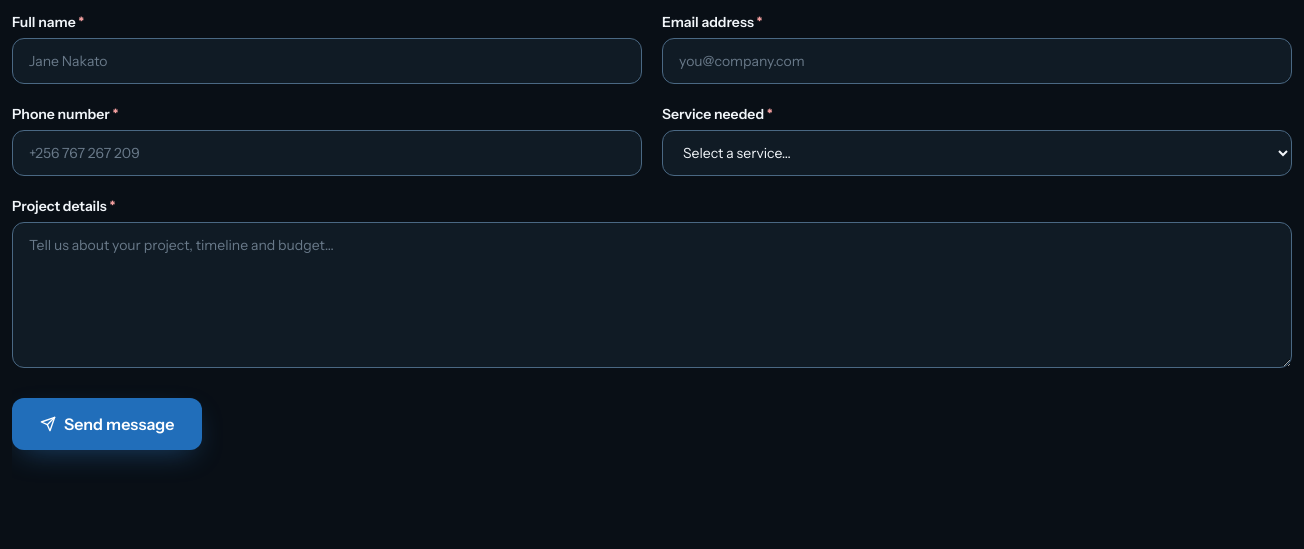
Test: ContactForm validation › blocks submission and reports every missing field
Click the button "Send message" at (107,424), box left=12, top=398, right=202, bottom=450
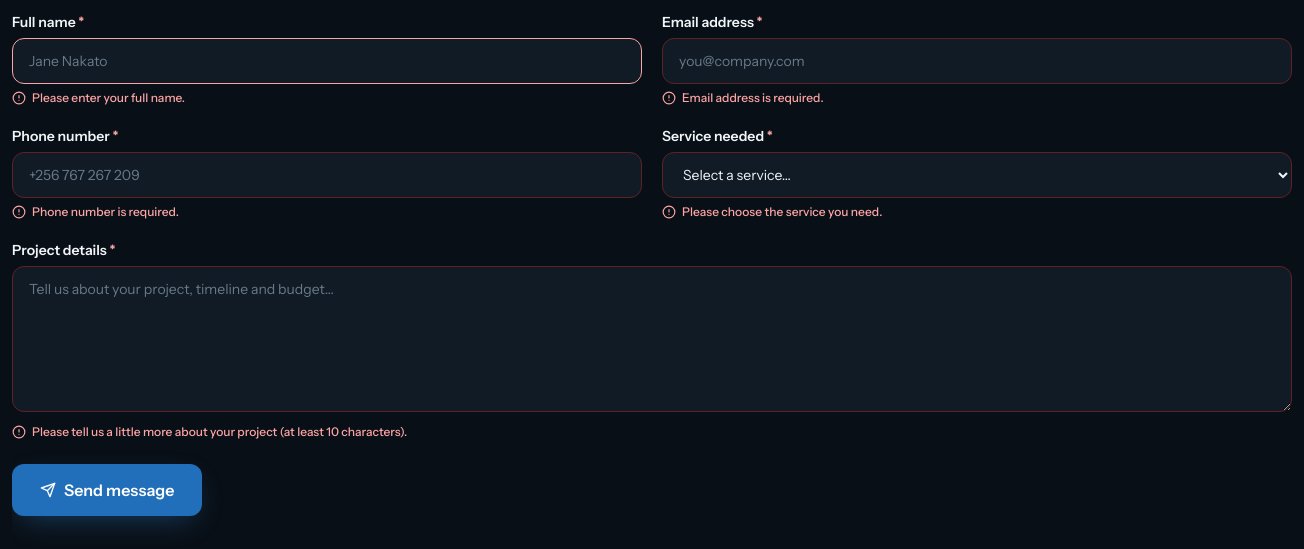
Now the text "Please enter your full name." is shown, box left=12, top=90, right=185, bottom=105
Now the text "Email address is required." is shown, box left=662, top=90, right=824, bottom=105
Now the text "Phone number is required." is shown, box left=12, top=204, right=179, bottom=219
